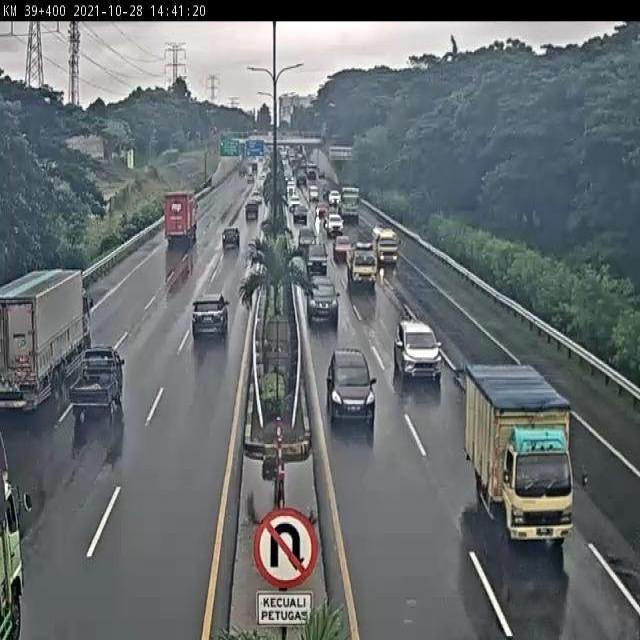car: (68, 345, 124, 420), (326, 348, 377, 428), (394, 320, 442, 383), (191, 293, 228, 339), (305, 275, 339, 325), (305, 244, 328, 275)
mid truck: (0, 267, 94, 412)
truck-m-: (463, 364, 576, 545), (345, 243, 378, 289)
